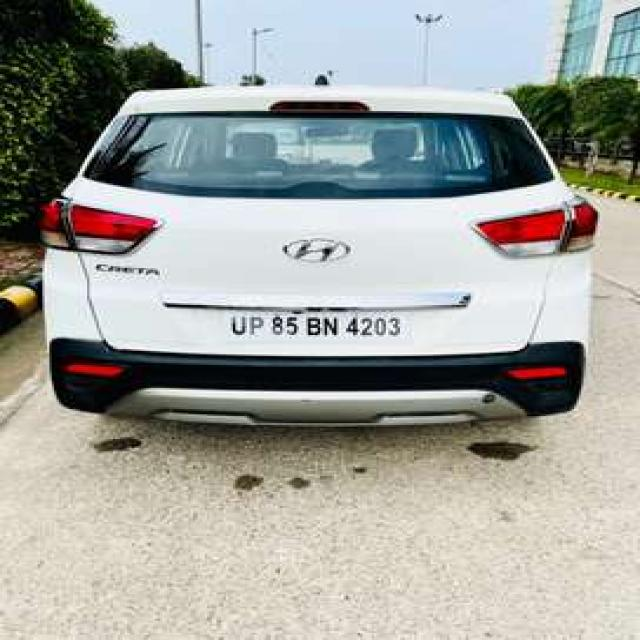Plate: (220, 310, 408, 341)
